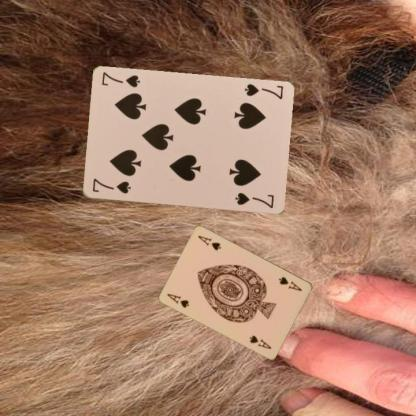7s: (242, 81, 284, 100), (90, 176, 132, 194)
As: (276, 274, 304, 292), (164, 291, 190, 309)
